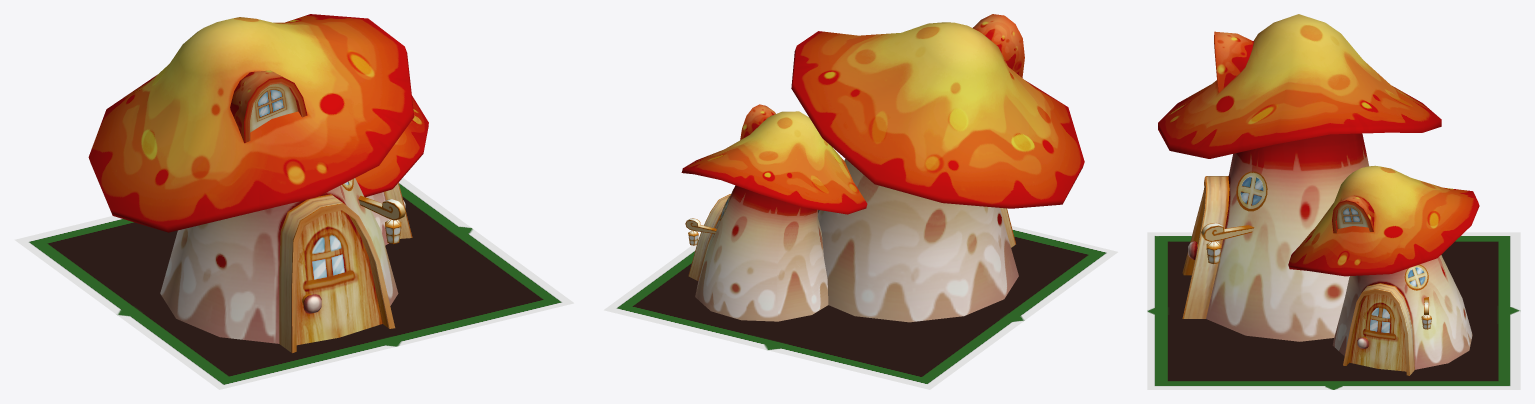
Rendered from house_2.fbx.
The picture shows the model from 3 angles, left to right: view 1: azimuth 30°, elevation 25°; view 2: azimuth 150°, elevation 25°; view 3: azimuth 270°, elevation 25°; orthographic projection. The views are drawn at different scales.
Parts seen in each view (by area): view 1: pCylinder8; view 2: pCylinder8; view 3: pCylinder8.
Part boxes in pixels (<box>): pCylinder8: <box>14,14,573,389</box>; pCylinder8: <box>604,14,1117,389</box>; pCylinder8: <box>1147,14,1520,389</box>.
Bounding box in the file's own units: 12.85 × 9.12 × 12.
